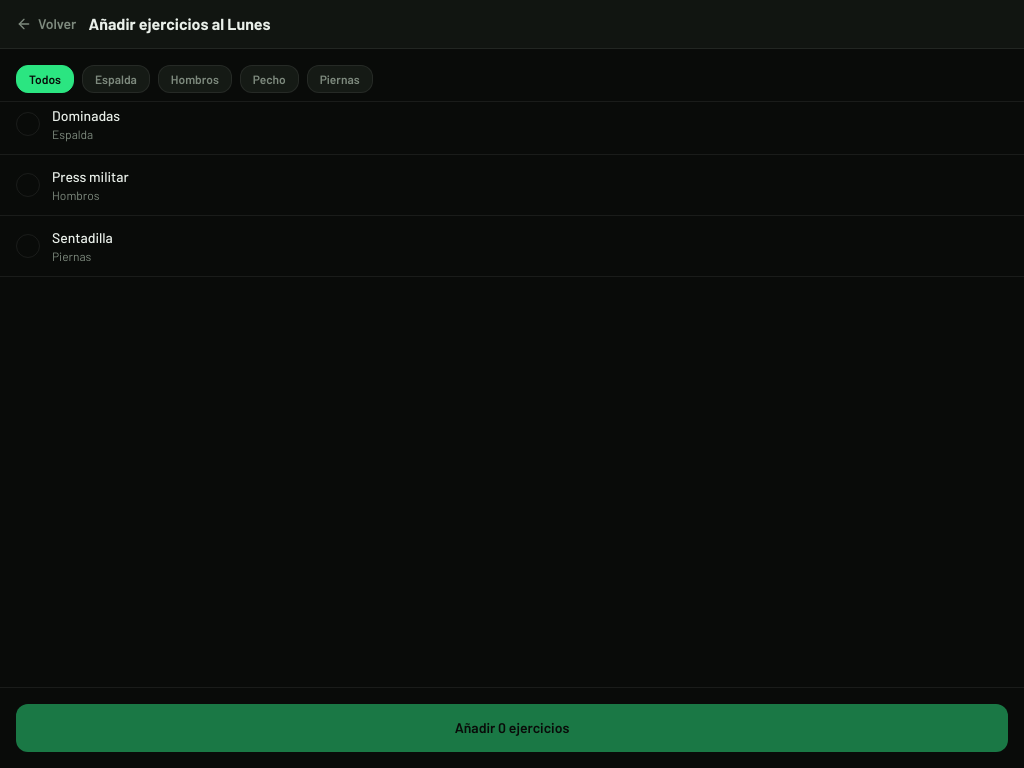
Test case: AddExercisesPage › filters exercises by muscle group when a group button is clicked
Expected: the text "Press militar" is shown, top-left (52, 168), bottom-right (129, 185)
Expected: the text "Dominadas" is shown, top-left (52, 107), bottom-right (120, 124)
# Click the Hombros filter
Click the button "Hombros" at point(195, 79), box top-left (158, 65), bottom-right (232, 93)
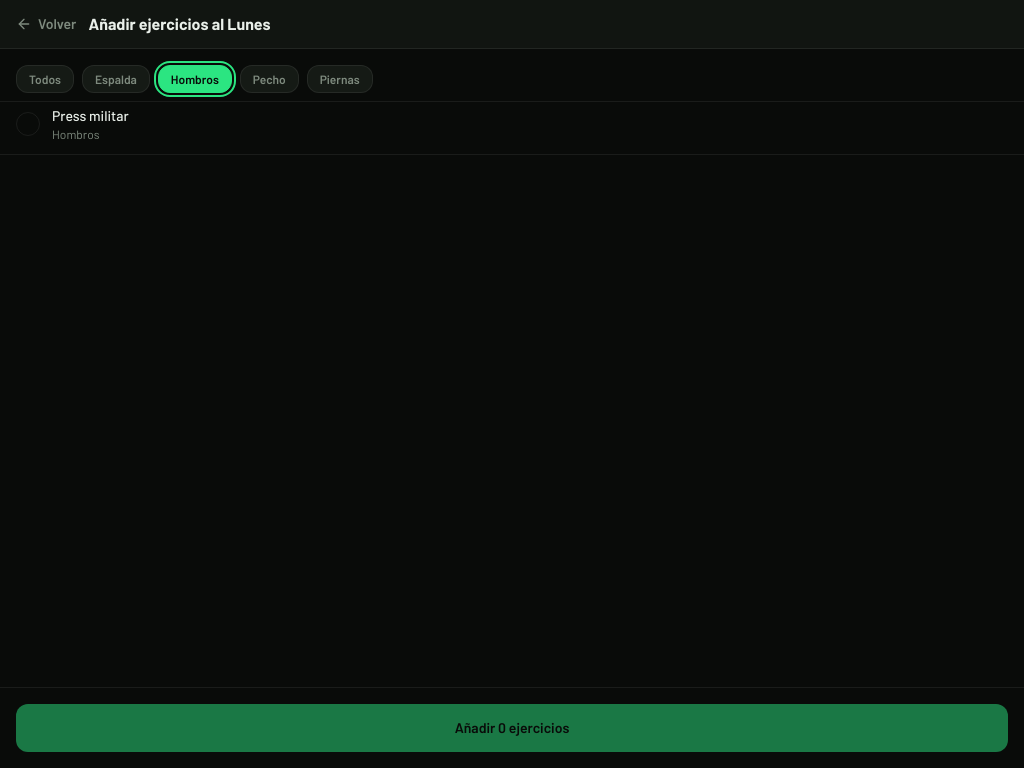
Expected: the text "Press militar" is shown, top-left (52, 107), bottom-right (129, 124)
Expected: the checkbox "Dominadas" is gone
Expected: the checkbox "Sentadilla" is gone
